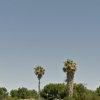Tree: (64, 56, 94, 99)
